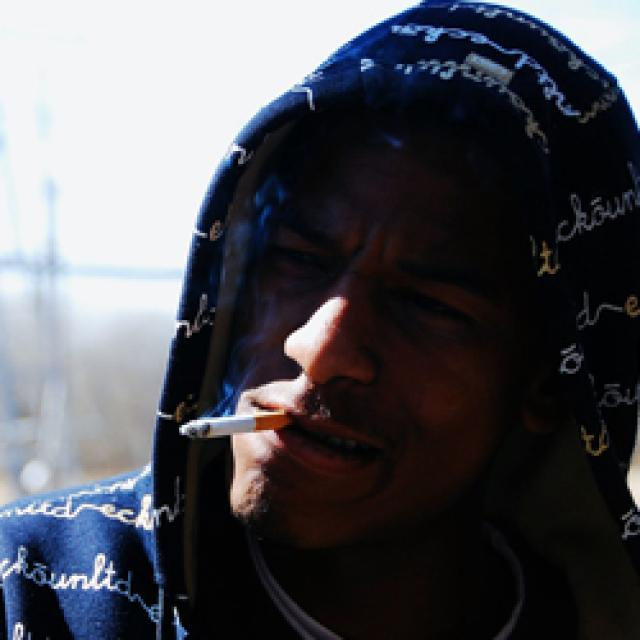Smooking: (167, 402, 293, 442)
